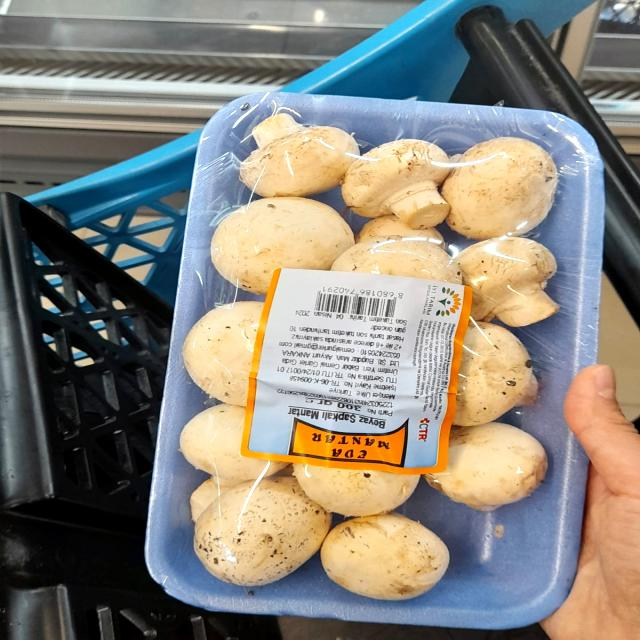mushroom: (182, 468, 326, 595), (317, 496, 453, 608), (436, 123, 564, 237), (442, 230, 578, 326), (340, 126, 460, 232), (238, 105, 362, 201)
